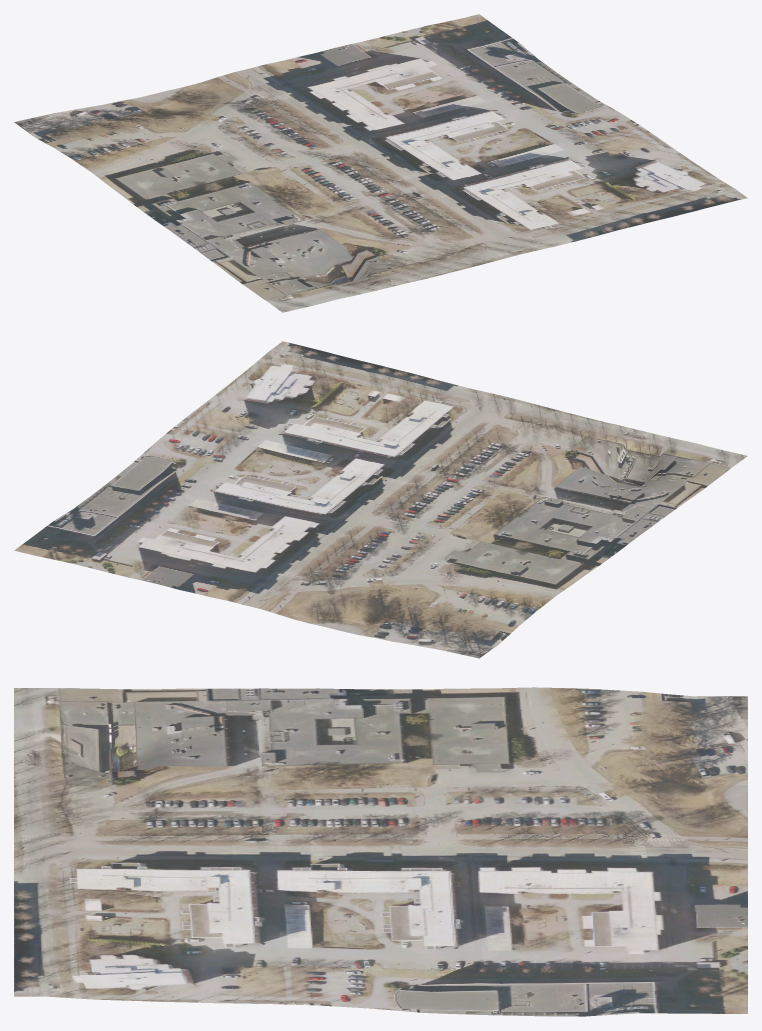
The model's file is CM_Terrain_24486978_6819384.fbx.
3 views of the same model, one above another, from view 1: azimuth 30°, elevation 25°; view 2: azimuth 150°, elevation 25°; view 3: azimuth 270°, elevation 25° (orthographic). The views are drawn at different scales.
Parts seen in each view (by area): view 1: CM_Terrain_24486978_6819384_LOD0; view 2: CM_Terrain_24486978_6819384_LOD0; view 3: CM_Terrain_24486978_6819384_LOD0.
Part boxes in pixels (x1=…): CM_Terrain_24486978_6819384_LOD0: x1=14, y1=14, x2=747, y2=312; CM_Terrain_24486978_6819384_LOD0: x1=14, y1=341, x2=747, y2=658; CM_Terrain_24486978_6819384_LOD0: x1=14, y1=687, x2=747, y2=1016.
Size of what is drawn, in the model's own units: 205 by 10.61 by 205.
